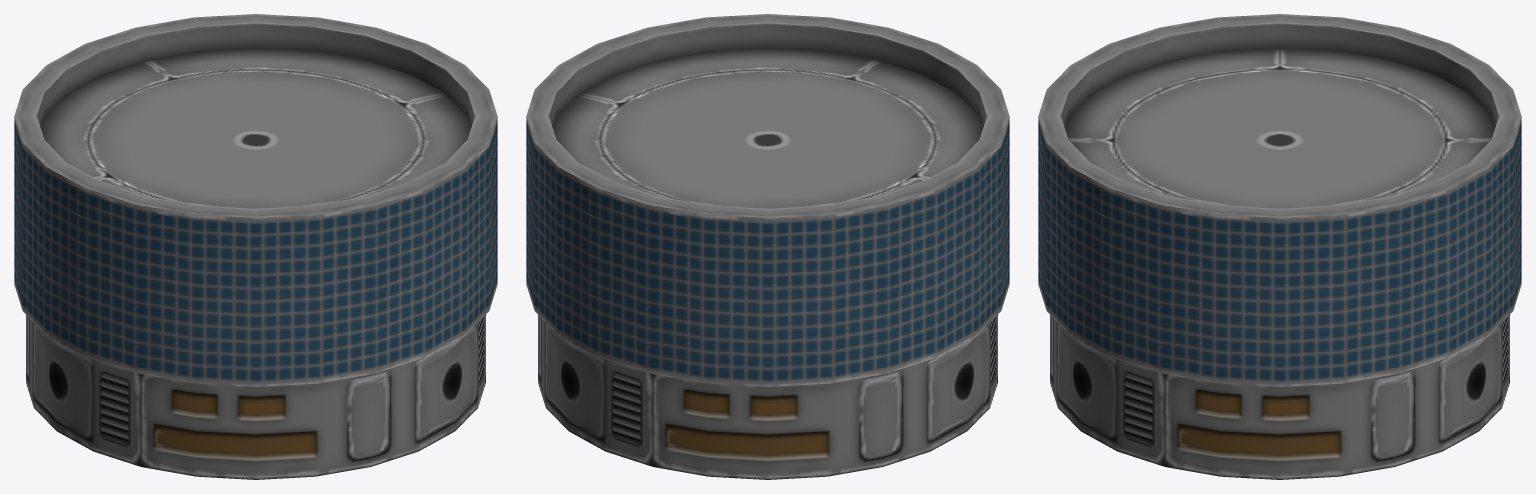
File: Pioneer6_Core.fbx
3 renders of one model, left to right at view 1: azimuth 30°, elevation 25°; view 2: azimuth 150°, elevation 25°; view 3: azimuth 270°, elevation 25°, orthographic.
Parts seen in each view (by area): view 1: pCylinder1; view 2: pCylinder1; view 3: pCylinder1.
Part boxes in pixels (bbox=[...]): pCylinder1: bbox=[14, 14, 497, 479]; pCylinder1: bbox=[526, 14, 1009, 479]; pCylinder1: bbox=[1038, 14, 1521, 479].
Size of the model in its own units: 0.6567 by 0.4 by 0.6567.
Materials: 1 (1 with a texture image).
